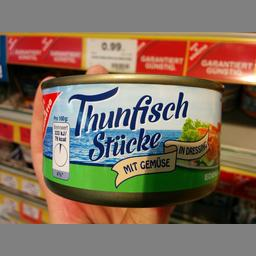fish: (39, 73, 225, 207)
